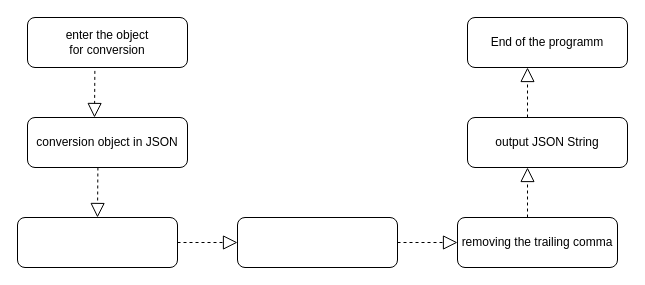
Some shapes in this 645 by 285 pixel diagram are drawn without their labels. The shapes that lost their labels are listed below. From the top down, each one's centre as x and y in pixels, then its label:
At (97,242): "conversion every field of object in JSON".
At (317,242): "exception handling when accessing a field".
